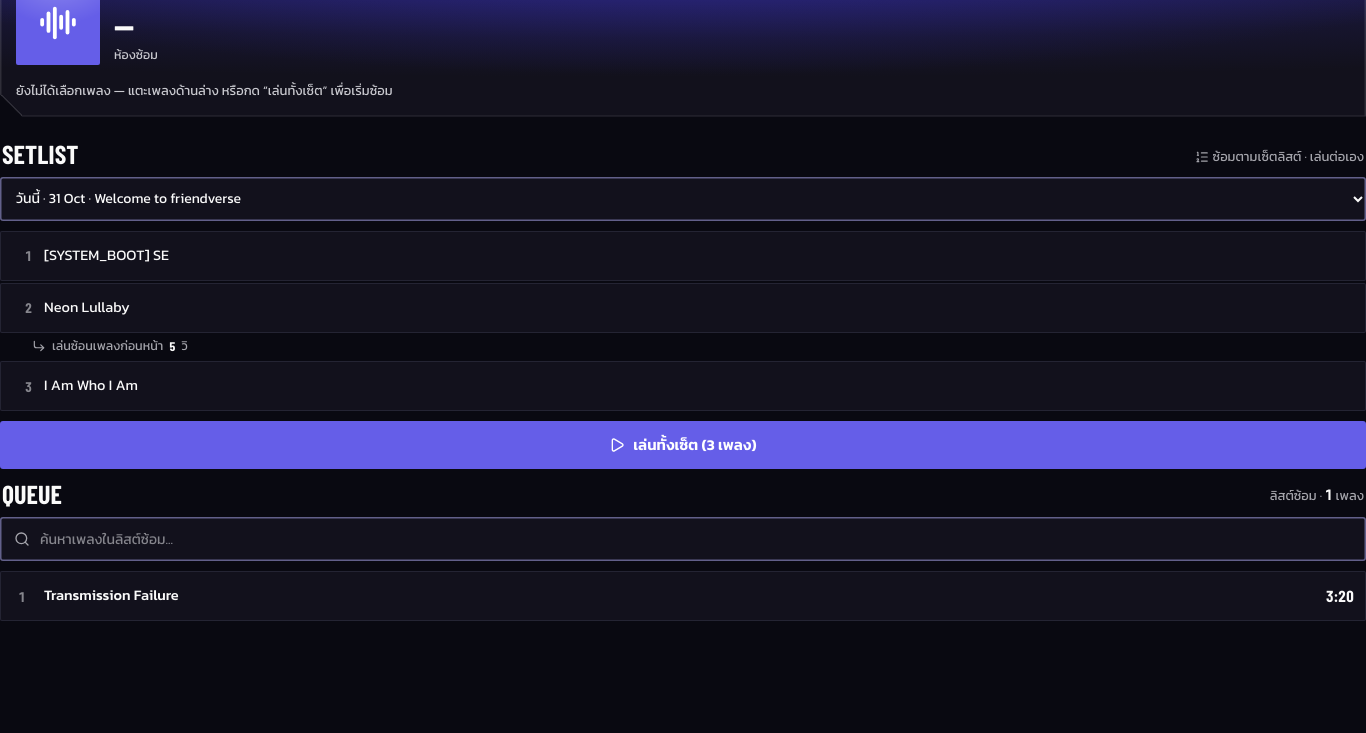
PracticePlayer — เล่นซ้อน › brings the next song in on its second, over the end of this one
Click the button "เล่นทั้งเซ็ต (3 เพลง)".
click(683, 445)  # box [0,421,1365,469]
(page scrolled)
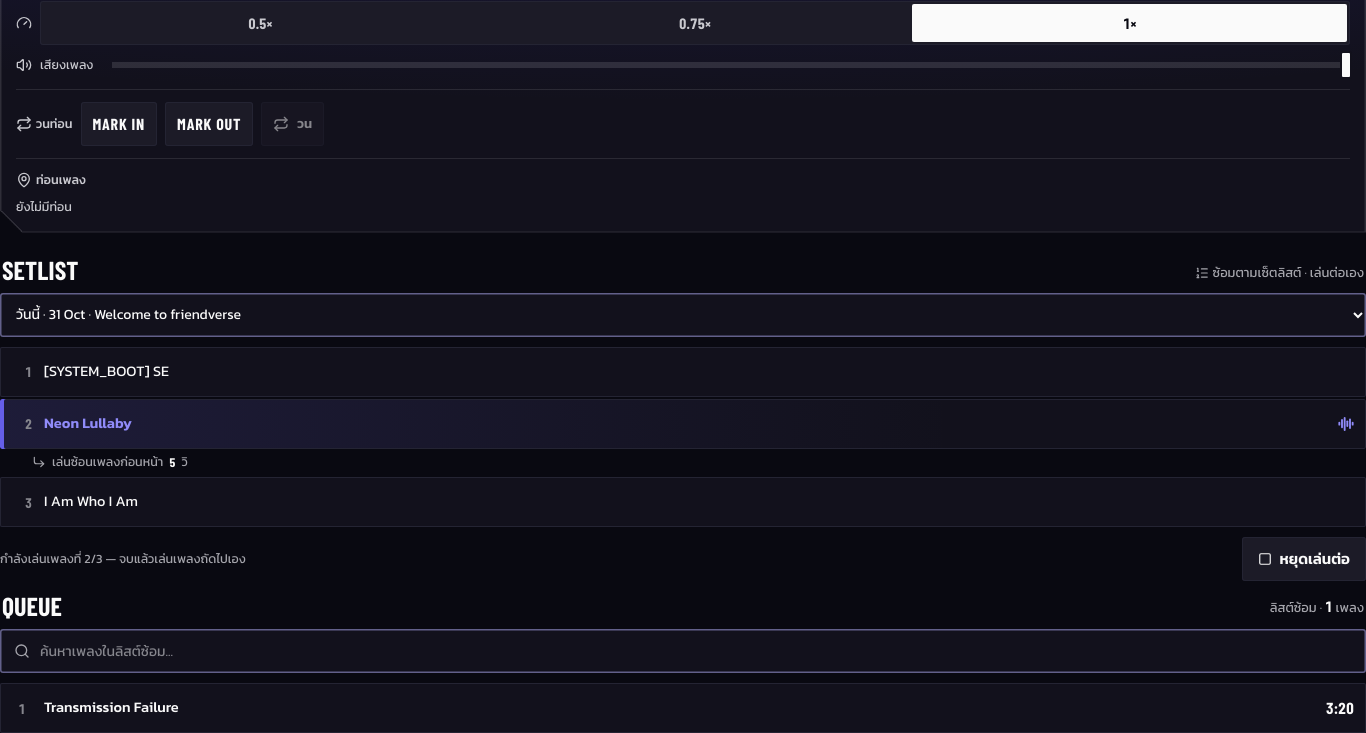
Expected: the text "กำลังเล่นเพลงที่ 2/3 — จบแล้วเล่นเพลงถัดไปเอง" is shown, [0,550,246,569]
